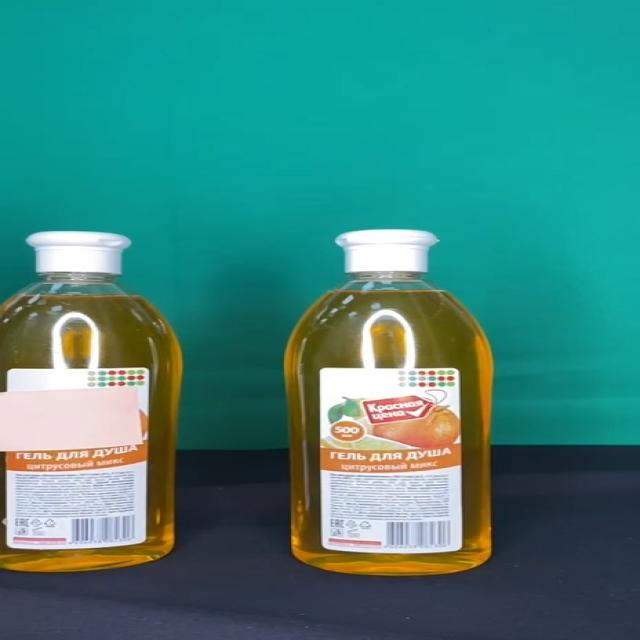Bottle: (280, 230, 496, 575), (0, 230, 184, 572)
Cap: (26, 232, 132, 275), (334, 230, 439, 273)
